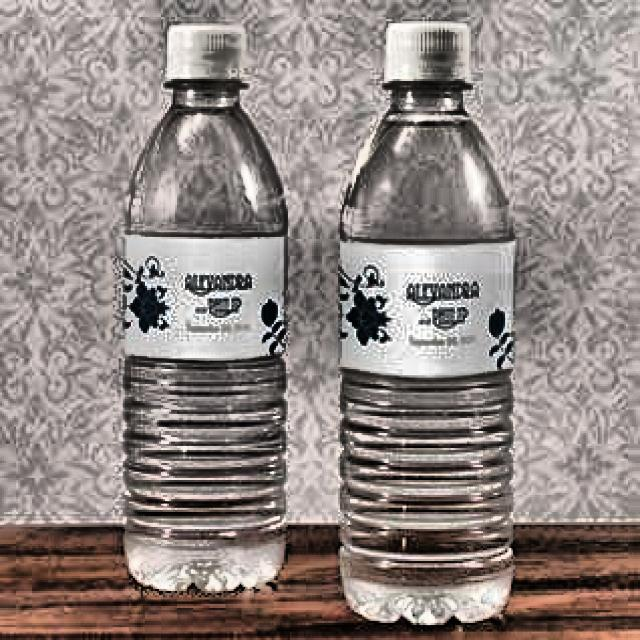Bottles: (317, 17, 534, 629), (100, 7, 310, 603)
